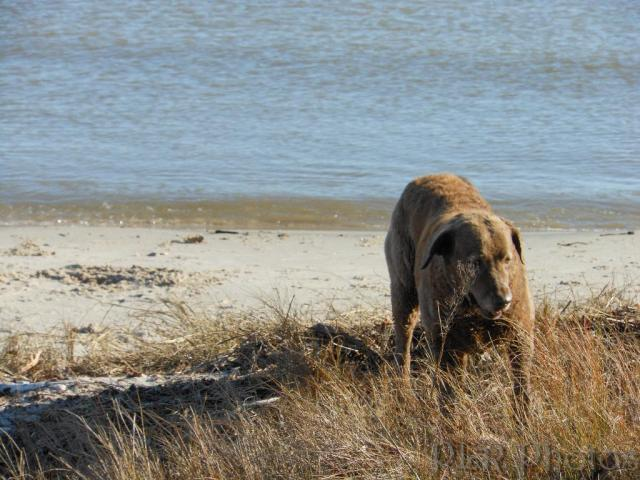Dog: (379, 173, 533, 434)
